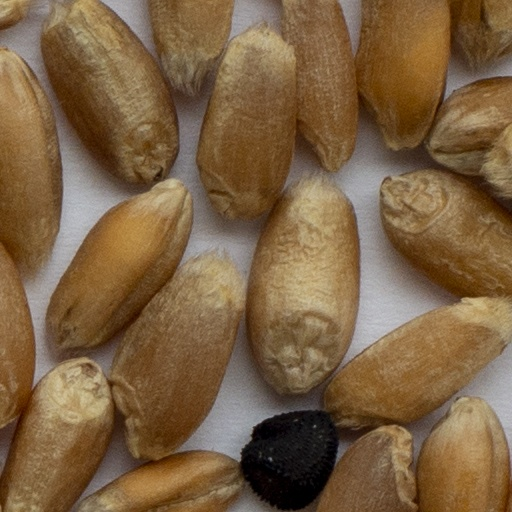Agrostemma-poly: (237, 408, 337, 511)
Wheat-grain-poly: (315, 423, 417, 511)
